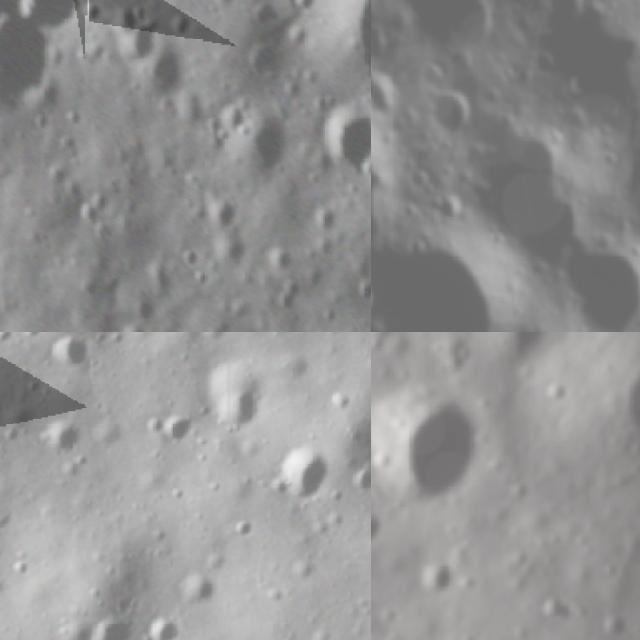crater: (371, 353, 510, 534), (371, 217, 521, 332), (371, 55, 418, 302), (567, 332, 640, 489), (544, 218, 640, 332), (394, 0, 518, 68), (0, 11, 62, 111), (316, 97, 371, 193), (605, 136, 640, 282), (464, 332, 577, 376), (137, 32, 195, 116), (208, 360, 272, 435), (103, 0, 163, 74), (404, 542, 470, 608), (271, 440, 334, 504), (238, 108, 297, 175), (327, 0, 371, 81), (420, 82, 478, 143), (582, 591, 640, 640), (530, 0, 596, 40), (10, 0, 90, 32), (428, 184, 473, 232), (168, 572, 218, 615), (203, 184, 244, 233), (74, 186, 118, 229), (38, 418, 82, 460), (51, 332, 94, 371), (371, 17, 400, 73), (163, 408, 200, 448), (91, 613, 137, 640), (140, 612, 183, 640), (264, 248, 299, 280), (310, 201, 342, 236), (138, 413, 170, 437), (351, 465, 371, 502), (179, 241, 204, 270), (113, 316, 155, 332), (231, 518, 255, 543), (354, 275, 371, 304), (193, 262, 211, 288), (15, 332, 46, 343)
